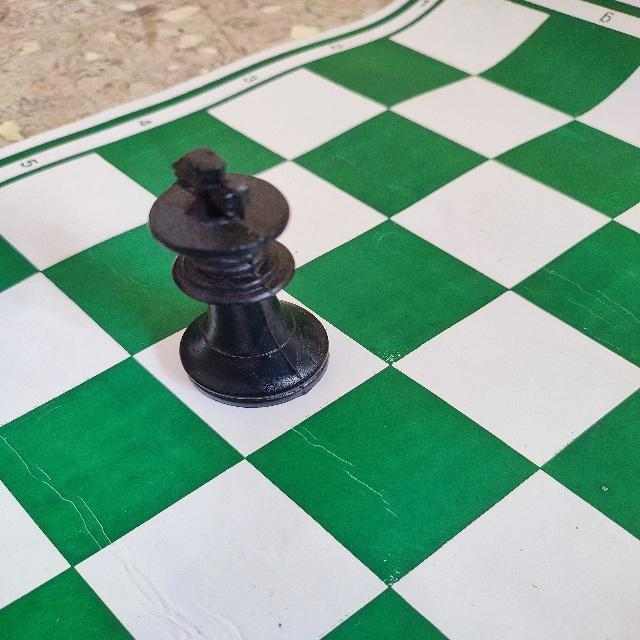King: (148, 145, 333, 410)
